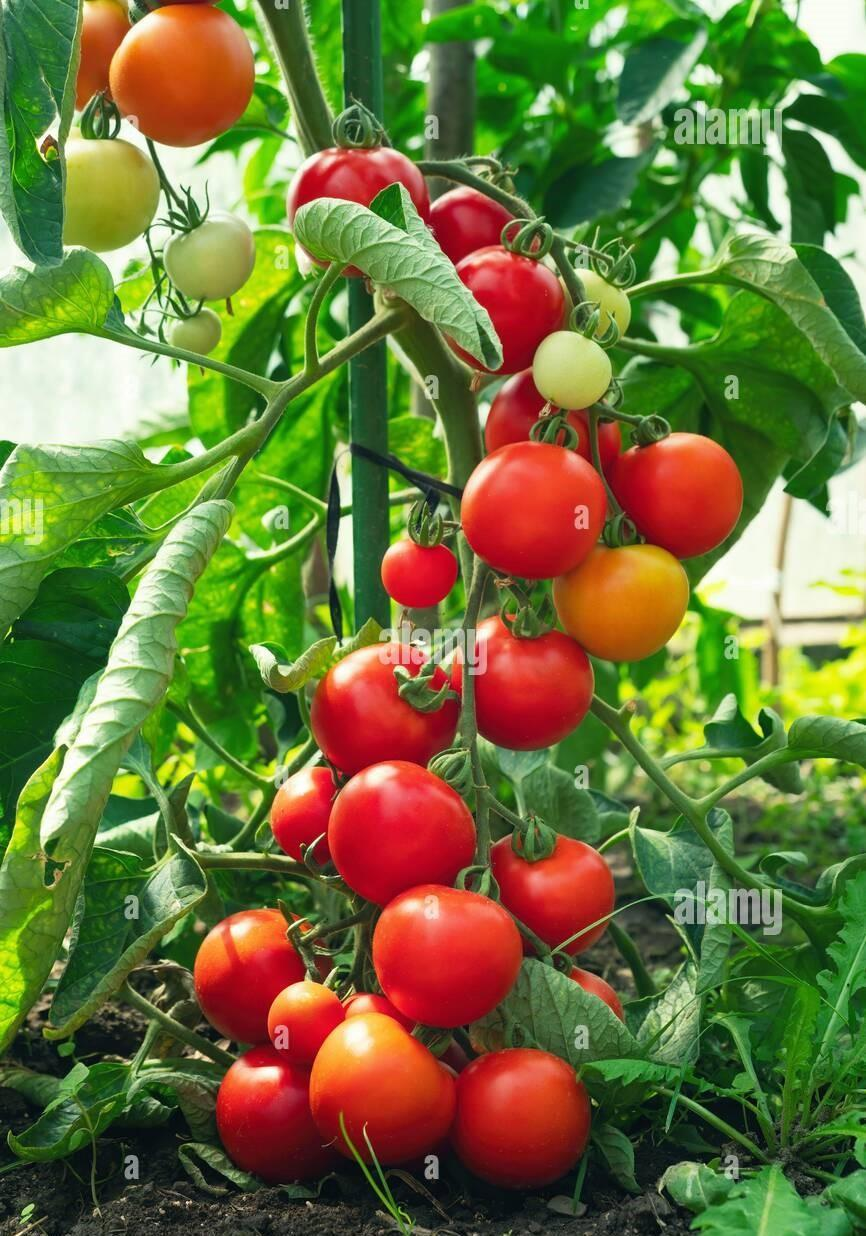healthy-tomato: (310, 1010, 463, 1172), (287, 106, 434, 269), (106, 5, 259, 156), (370, 885, 525, 1033), (326, 764, 482, 909), (313, 638, 466, 782), (460, 444, 614, 587), (450, 1051, 595, 1196), (192, 910, 336, 1053), (456, 249, 585, 387), (217, 1054, 343, 1193), (493, 820, 620, 956), (474, 619, 595, 760), (614, 432, 748, 559), (431, 159, 561, 270), (241, 757, 351, 878), (381, 503, 485, 629), (487, 372, 607, 476), (265, 977, 354, 1071), (540, 954, 632, 1024)
